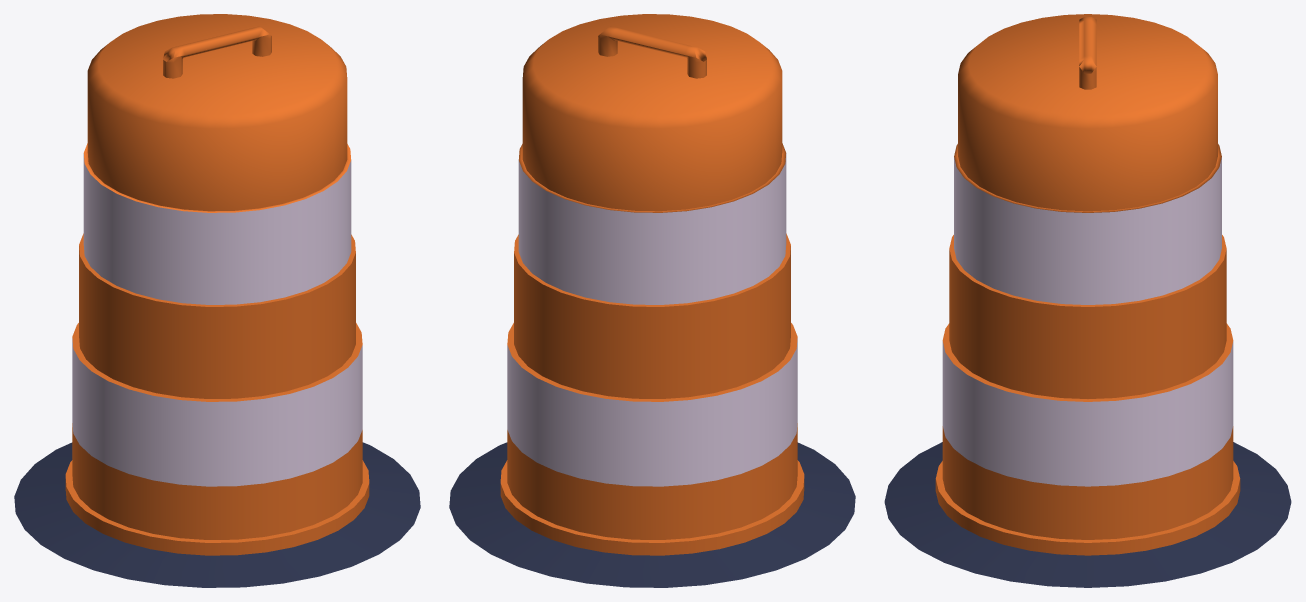
The model's file is TrafficBarrel.fbx.
The picture shows the model from 3 angles, left to right: view 1: azimuth 30°, elevation 25°; view 2: azimuth 150°, elevation 25°; view 3: azimuth 270°, elevation 25°; orthographic projection.
Parts seen in each view (by area): view 1: TrafficBarrel; view 2: TrafficBarrel; view 3: TrafficBarrel.
Boxes of the visible parts, bbox=[...] form: TrafficBarrel: bbox=[14, 14, 420, 587]; TrafficBarrel: bbox=[449, 14, 855, 587]; TrafficBarrel: bbox=[884, 14, 1291, 587].
Size of the model in its own units: 0.35 by 0.4399 by 0.35.
